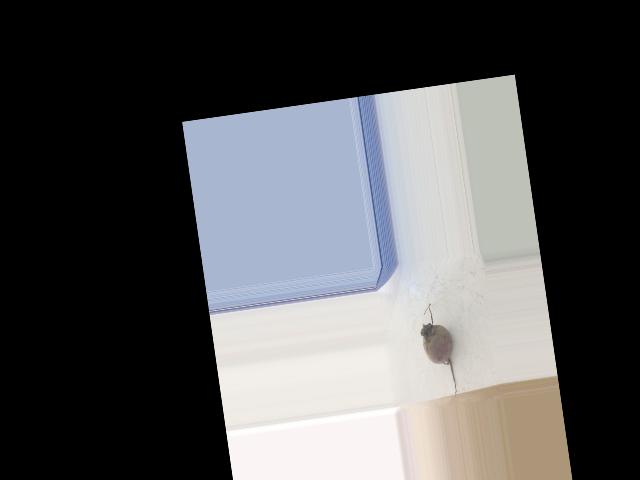beet: (417, 301, 460, 401)
